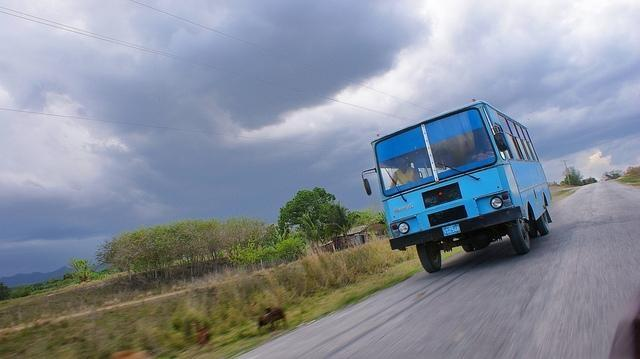bus: (360, 101, 552, 273)
